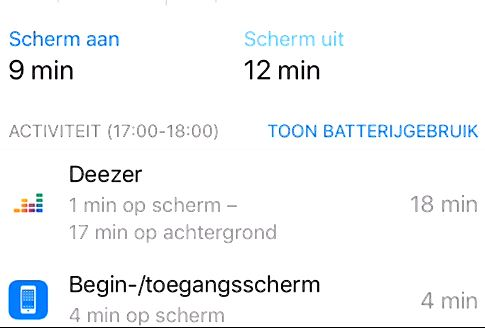activity: (5, 117, 223, 151)
app: (2, 158, 483, 251)
